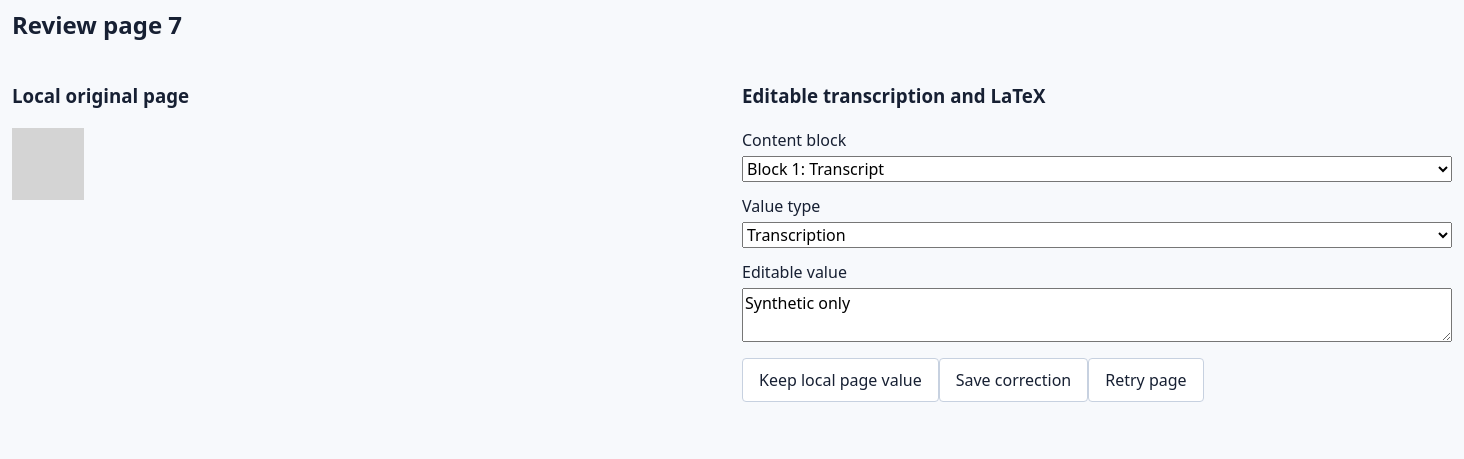
Test: IndexReviewEditor › retries once with the safe review version and refreshes only after success
The width and height of the screenshot is (1464, 459).
Click the button "Retry page".
click(1146, 380)  # box [1088,358,1204,402]
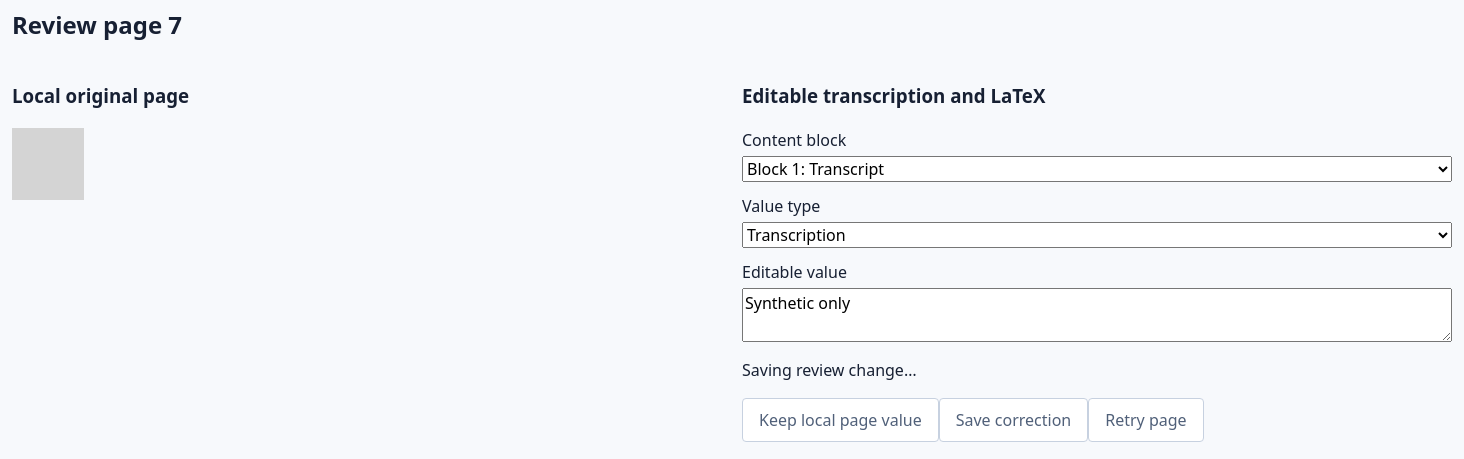
Expected: the button "Retry page" is disabled
Click the button "Retry page".
click(1146, 420)  # box [1088,398,1204,442]
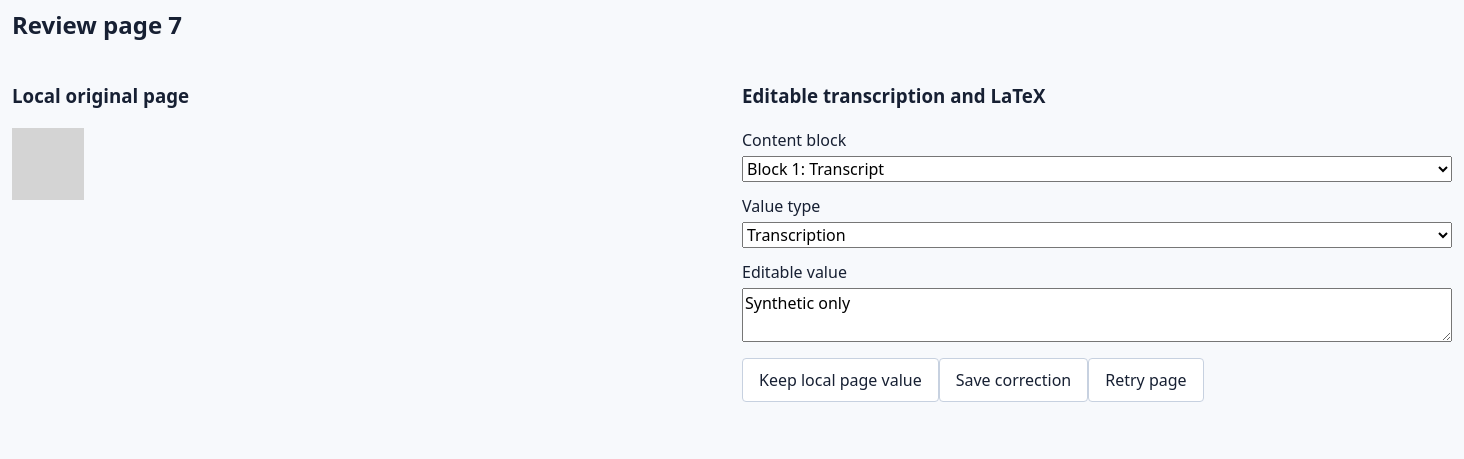
Expected: the button "Retry page" is enabled, [1088,358,1204,402]
